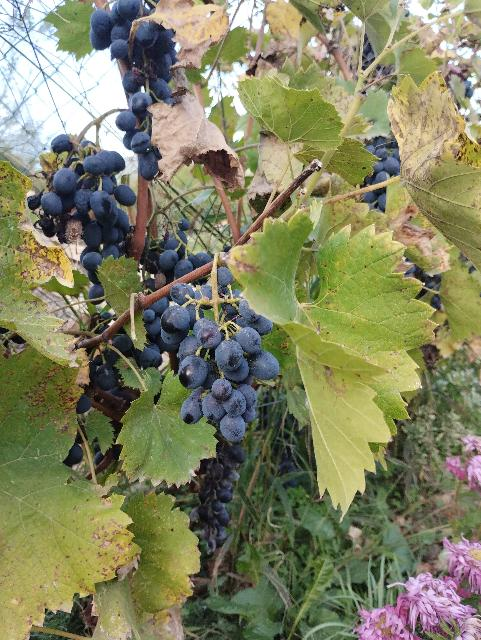grapes: (161, 260, 280, 444), (28, 134, 135, 304)
